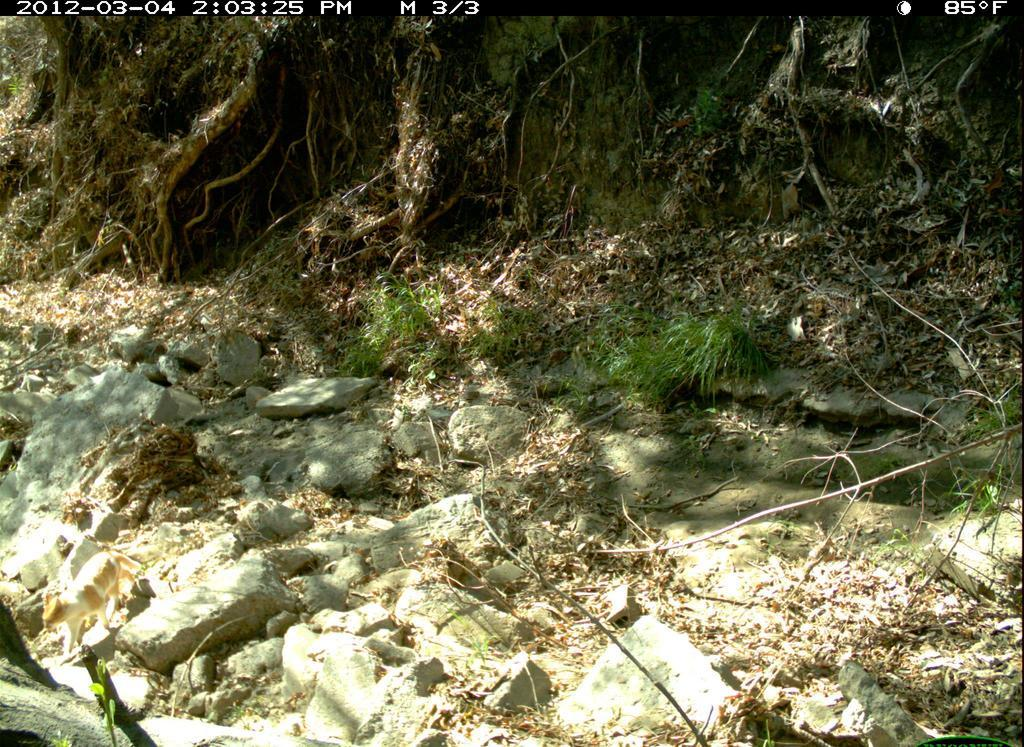cat: (40, 550, 144, 667)
